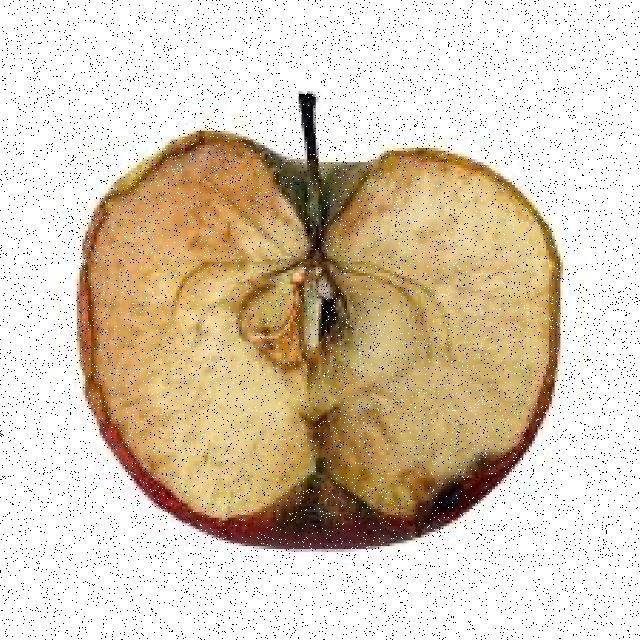Apple: (72, 88, 558, 546)
